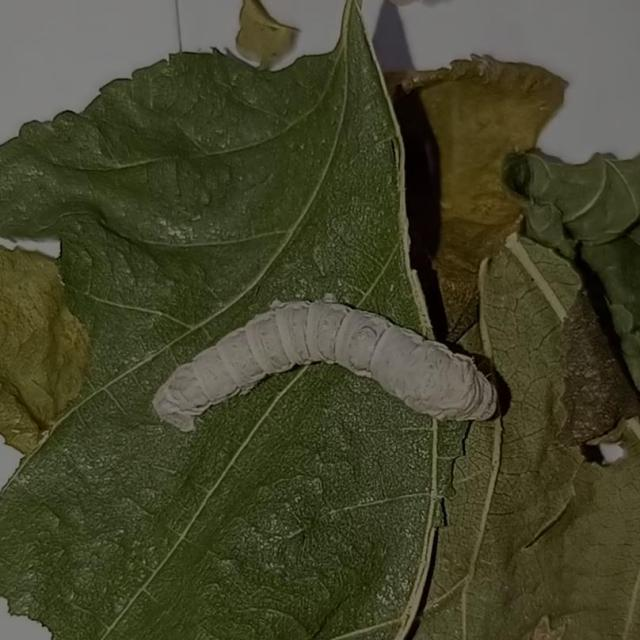Healthy: (127, 280, 518, 449)
